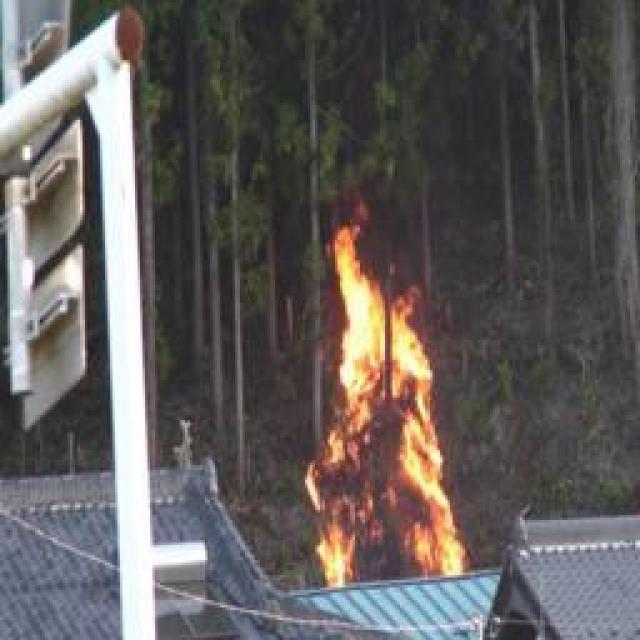Fire: (307, 241, 455, 588)
